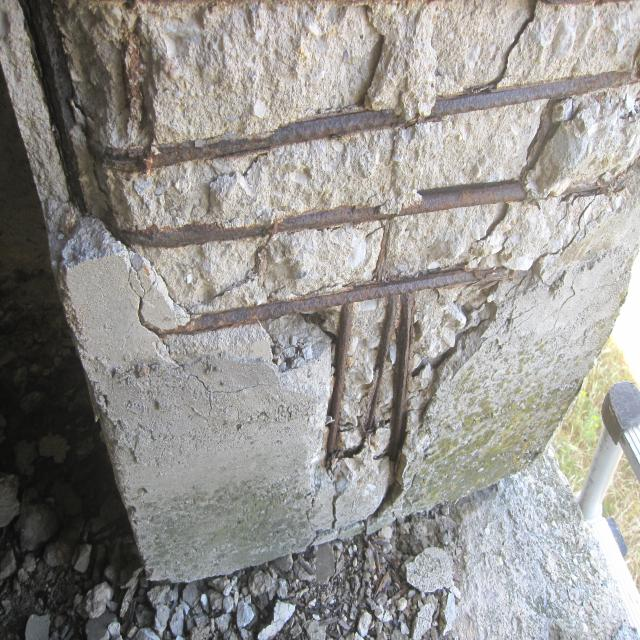corrosion: (23, 4, 640, 512)
